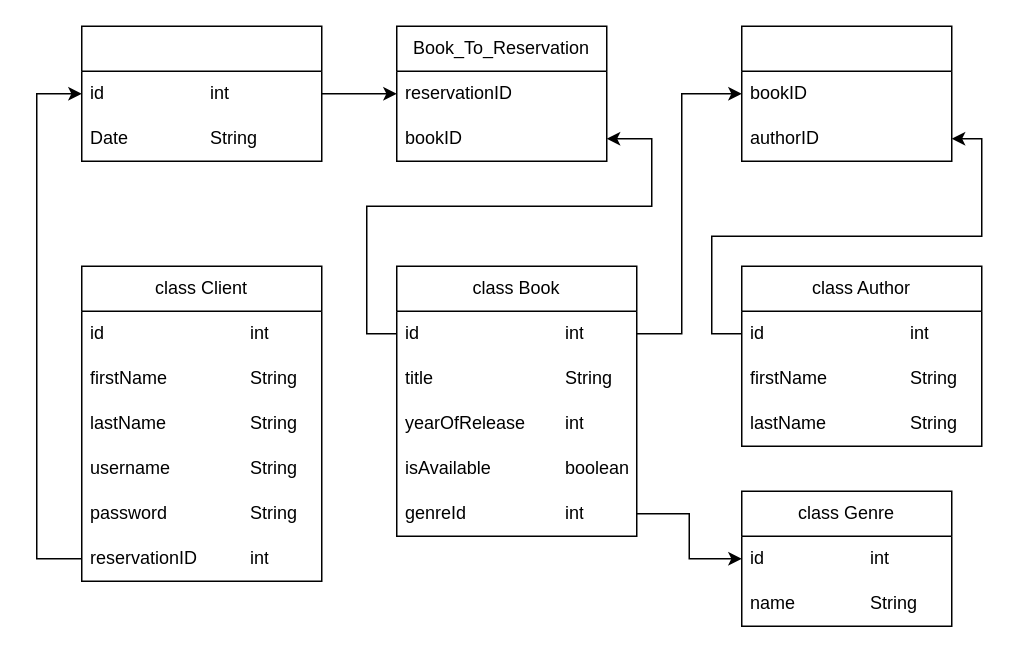
This 1020x653 diagram has some shape labels left out. Here are the shapes that lost their labels. From the top down, the box of each, then its label:
(80, 25, 322, 161): class Reservation
(740, 25, 952, 161): Authors_To_Books
